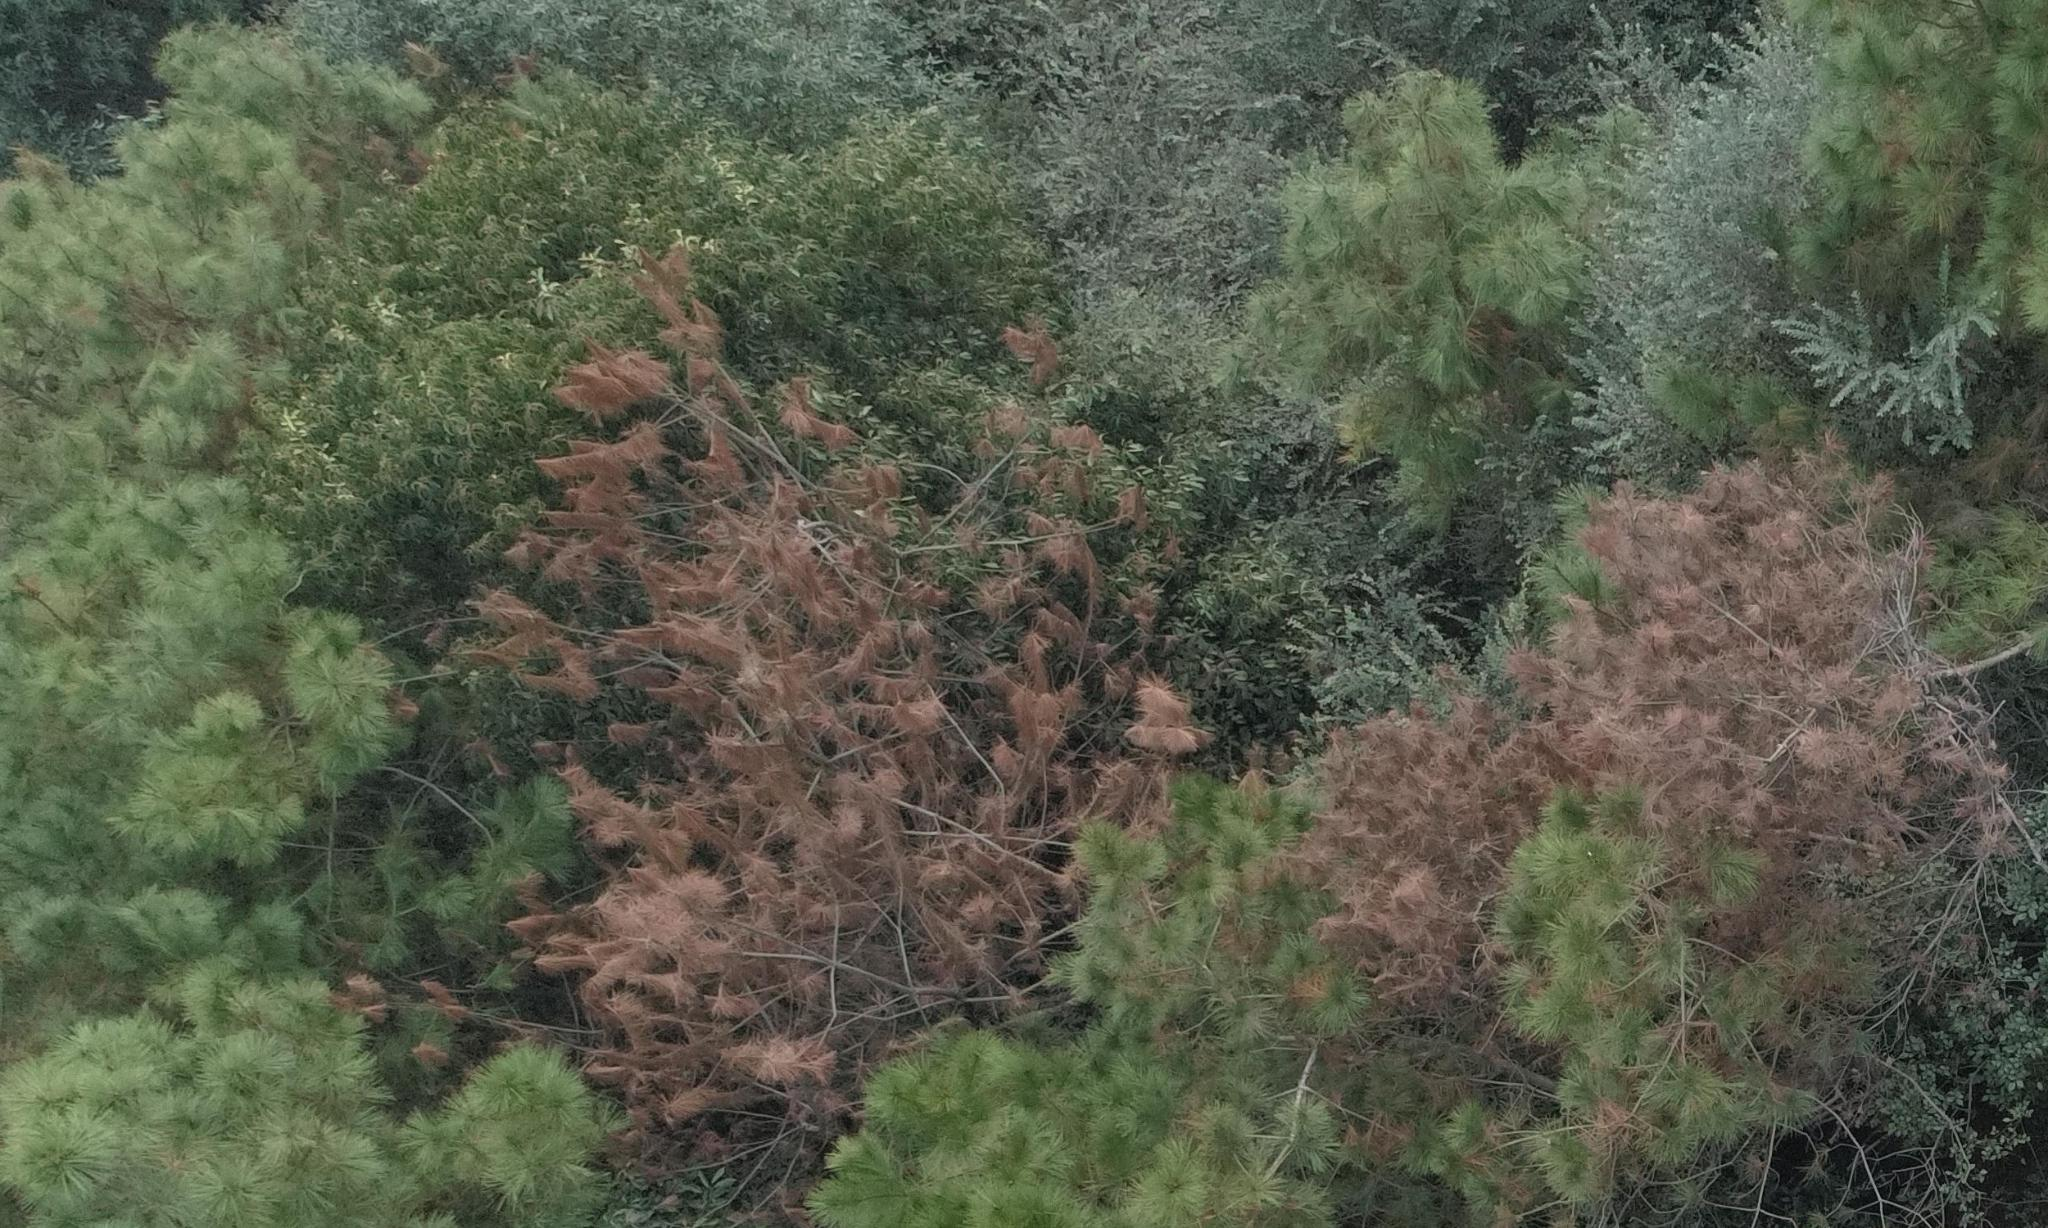heavy: (444, 266, 1178, 1115), (1278, 474, 1990, 981)
